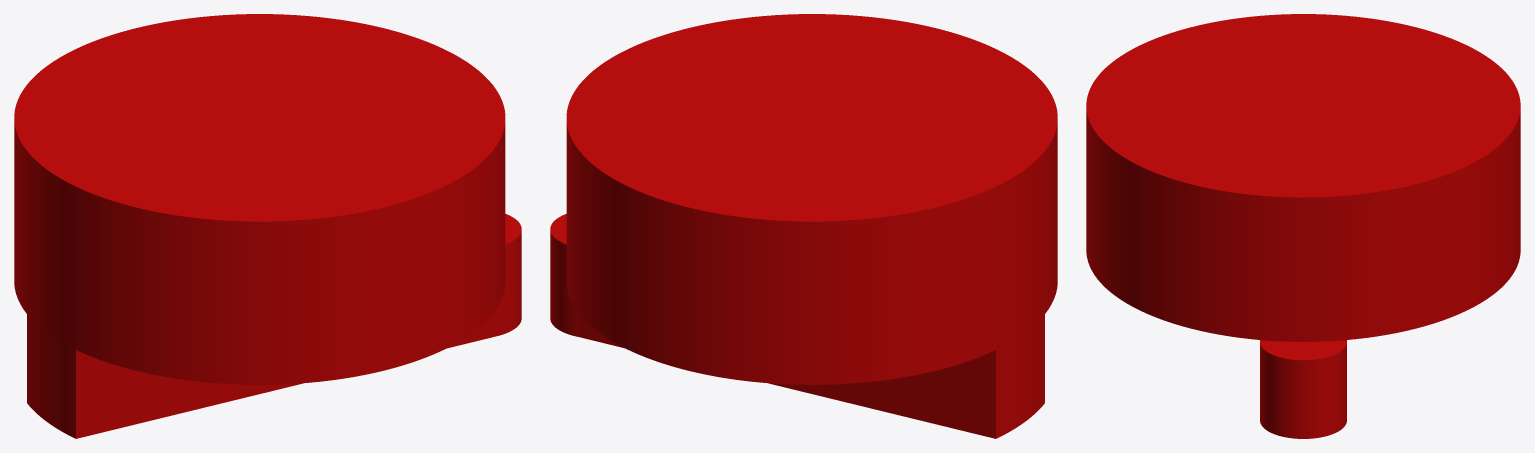
The model's file is circuit_panel_switch_red.dae.
3 views of the same model, side by side, from view 1: azimuth 30°, elevation 25°; view 2: azimuth 150°, elevation 25°; view 3: azimuth 270°, elevation 25° (orthographic). The views are drawn at different scales.
Parts seen in each view (by area): view 1: node_0; view 2: node_0; view 3: node_0.
Boxes of the visible parts, left/top/right/bottom form: node_0: left=14, top=14, right=521, bottom=438; node_0: left=550, top=14, right=1057, bottom=438; node_0: left=1086, top=14, right=1520, bottom=438.
Size of the model in its own units: 66 by 34 by 59.98.
